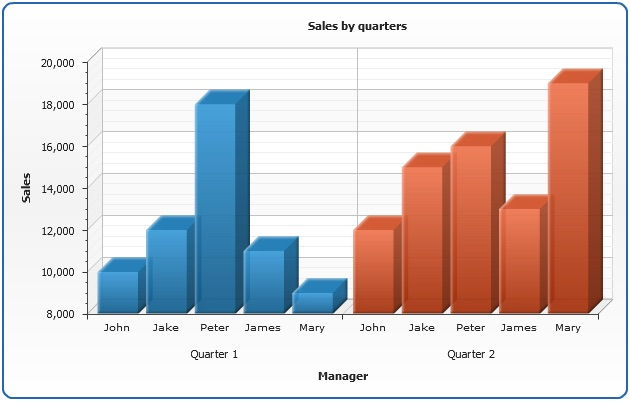Xaxis: (91, 318, 600, 388)
Yaxis: (18, 55, 89, 322)
bar: (547, 68, 602, 314), (194, 91, 248, 317), (450, 131, 503, 314), (403, 151, 451, 313), (500, 194, 550, 313), (354, 215, 405, 315), (146, 214, 195, 315), (246, 237, 298, 317), (99, 257, 145, 313), (294, 277, 347, 313)
